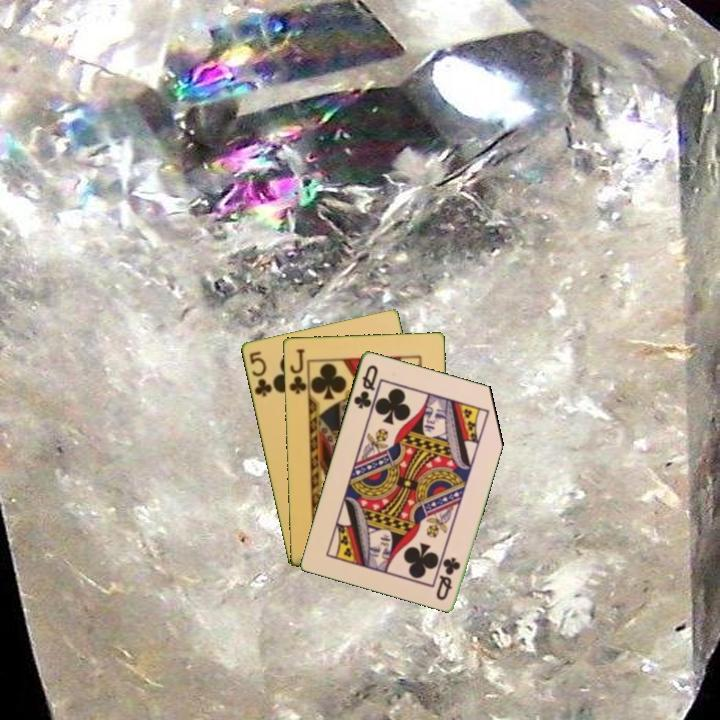5c: (245, 347, 275, 400)
Jc: (285, 345, 310, 399)
Qc: (350, 361, 381, 412), (432, 553, 463, 603)
